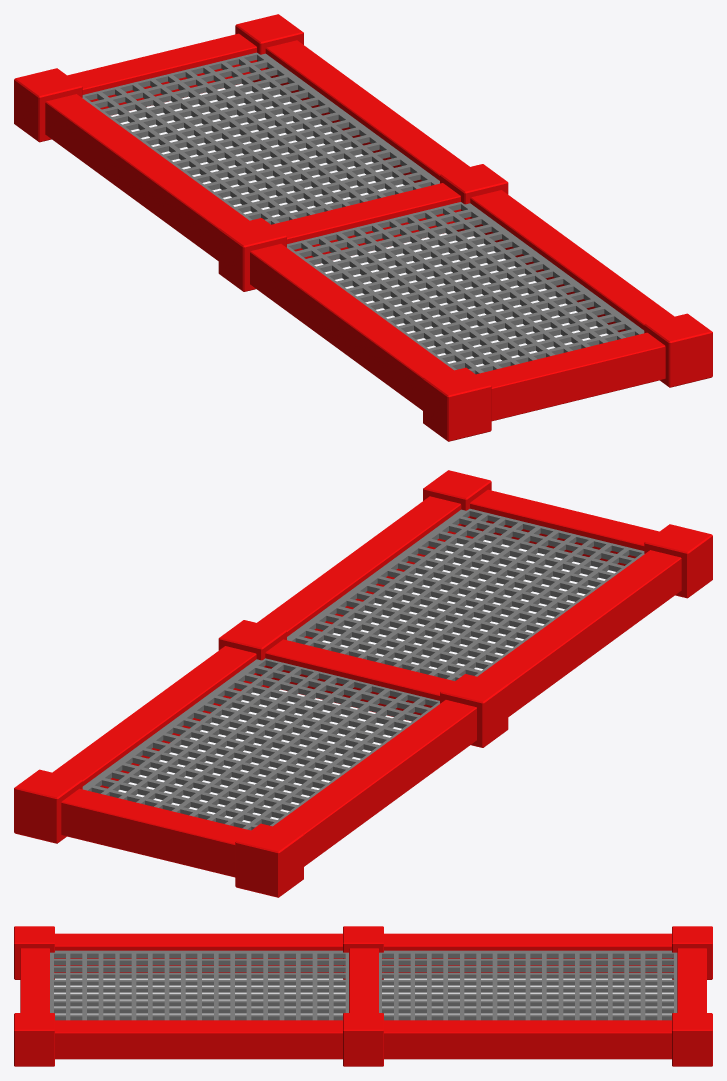
File: BridgeTwoSegmentRed.fbx
The picture shows the model from 3 angles, top to bottom: view 1: azimuth 30°, elevation 25°; view 2: azimuth 150°, elevation 25°; view 3: azimuth 270°, elevation 25°; orthographic projection. The views are drawn at different scales.
Parts seen in each view (by area): view 1: Cube, Grate.001; view 2: Cube, Grate.001; view 3: Cube, Grate.001.
Part boxes in pixels (x1,y1,x2,y2): Cube: [14, 14, 712, 441]; Grate.001: [82, 52, 644, 374]; Cube: [14, 470, 712, 897]; Grate.001: [82, 508, 644, 830]; Cube: [14, 926, 712, 1066]; Grate.001: [50, 950, 677, 1020].
Size of the model in its own units: 6 by 1 by 17.
